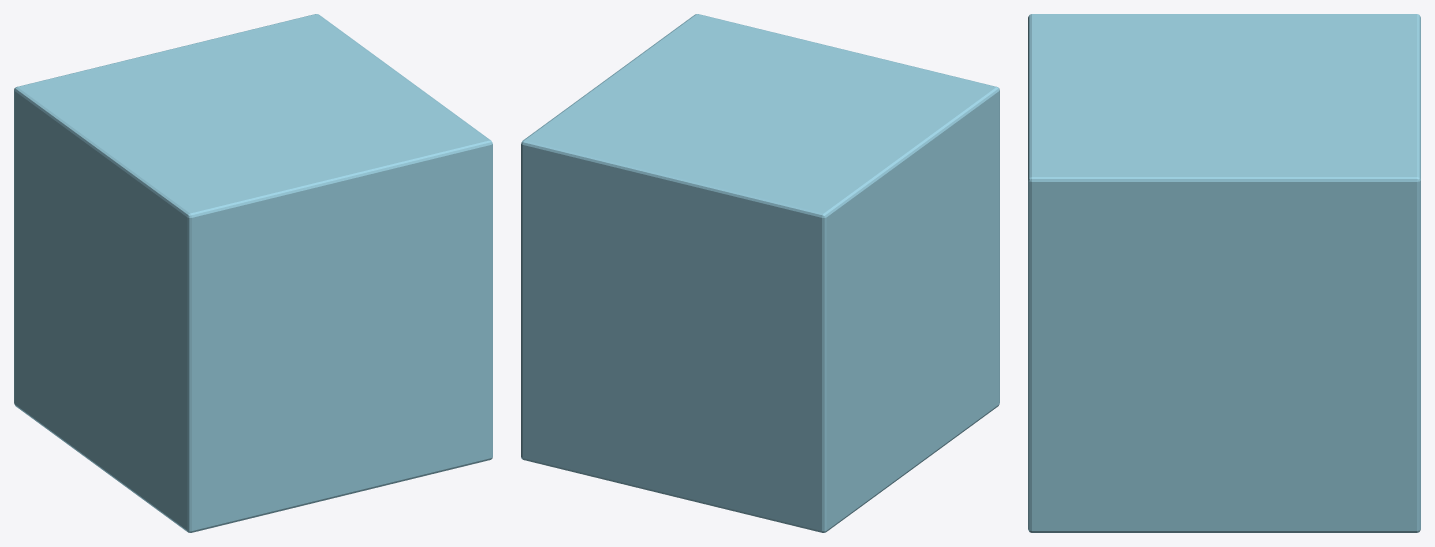
File: ETH.glb
The picture shows the model from 3 angles, left to right: view 1: azimuth 30°, elevation 25°; view 2: azimuth 150°, elevation 25°; view 3: azimuth 270°, elevation 25°; orthographic projection. The views are drawn at different scales.
Parts seen in each view (by area): view 1: ETH_big; view 2: ETH_big; view 3: ETH_big.
Part boxes in pixels (x1,y1,x2,y2): ETH_big: [14, 14, 492, 532]; ETH_big: [521, 14, 999, 532]; ETH_big: [1028, 14, 1420, 532].
Bounding box in the file's own units: 3 × 3 × 3.
